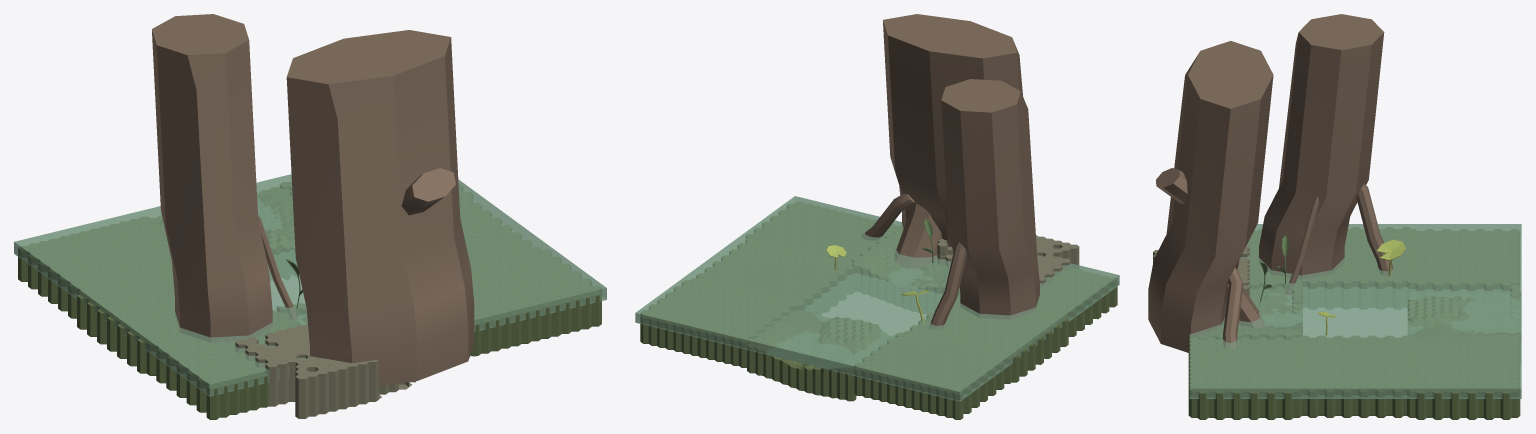
The picture shows the model from 3 angles, left to right: view 1: azimuth 30°, elevation 25°; view 2: azimuth 150°, elevation 25°; view 3: azimuth 270°, elevation 25°; orthographic projection. The views are drawn at different scales.
Parts seen in each view (by area): view 1: BG_decor01; view 2: BG_decor01; view 3: BG_decor01.
Boxes of the visible parts, box(x1,y1,x2,y2) form: BG_decor01: box(14, 14, 606, 419); BG_decor01: box(635, 14, 1119, 419); BG_decor01: box(1148, 14, 1521, 419).
Bounding box in the file's own units: 69.55 × 52.8 × 65.94.
